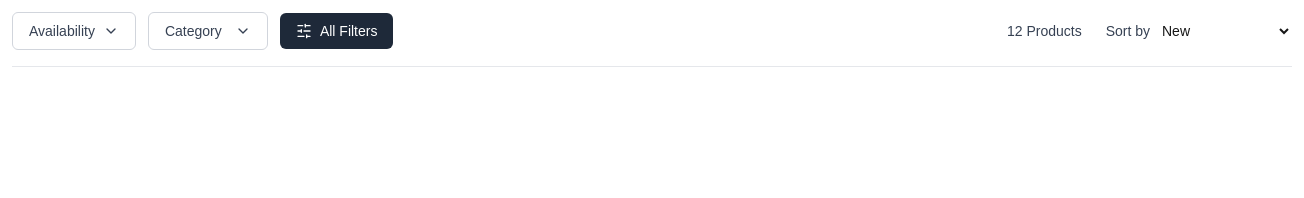
it: ProductFilter › Dropdown Functionality › should open dropdown when clicked
This screenshot has width=1304, height=198.
Click the button "Availability": (74, 31) [12,12,136,50]
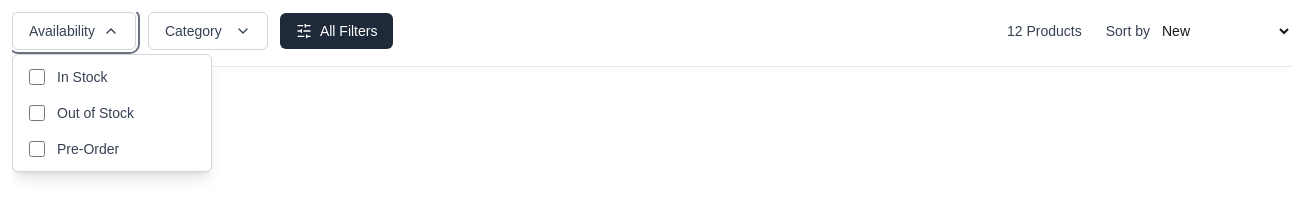
Expected: the text "In Stock" is shown, [29,69,108,85]
Expected: the text "Out of Stock" is shown, [29,105,134,121]
Expected: the text "Pre-Order" is shown, [29,141,119,157]
